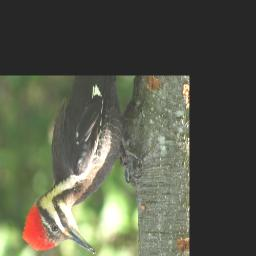Woodpecker: (23, 77, 141, 255)
